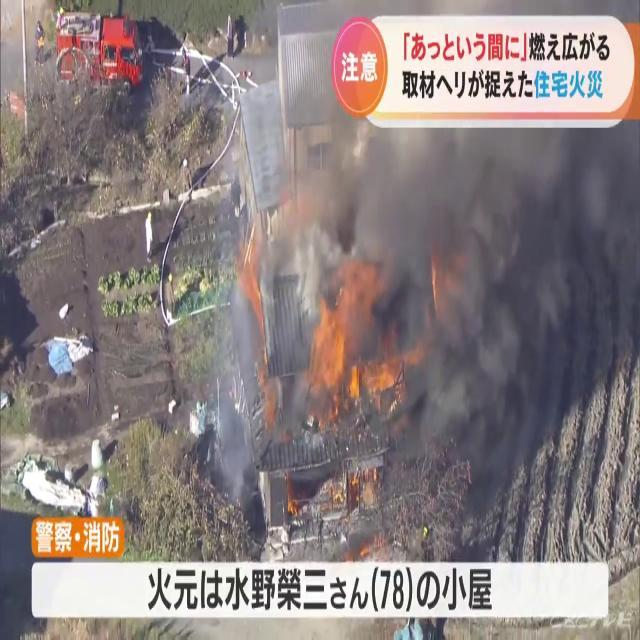Fire: (302, 262, 391, 424)
Smoke: (341, 108, 640, 518)
